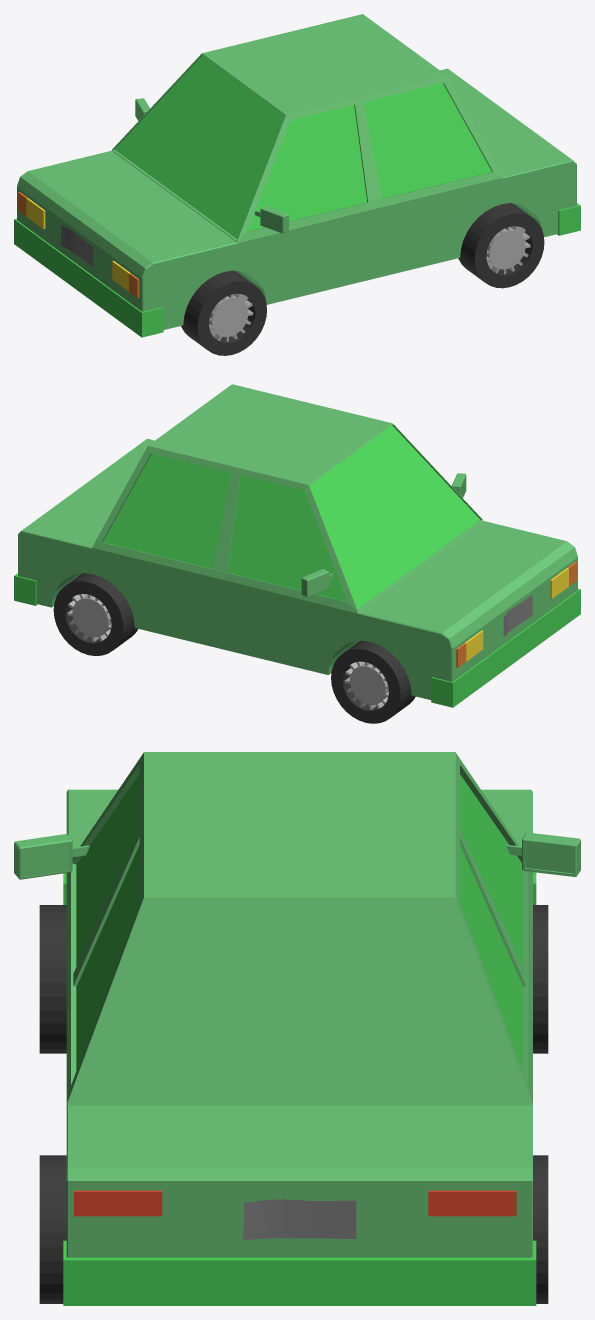
Rendered from Car One Green.fbx.
The picture shows the model from 3 angles, top to bottom: view 1: azimuth 30°, elevation 25°; view 2: azimuth 150°, elevation 25°; view 3: azimuth 270°, elevation 25°; orthographic projection. The views are drawn at different scales.
Visible parts, largest first — view 1: Car Body.002, Bumper.003, Tire.011, Tire.010, Spoke.011, Spoke.010, License Plate Front.004, Mirror Left.005, Back Bumper.002, Front Light.004, Light Front.004; view 2: Car Body.002, Bumper.003, Tire.009, Tire.008, Spoke.008, Spoke.009, Mirror Right.005, License Plate Front.004, Back Bumper.002, Front Light.004, Light Front.004; view 3: Car Body.002, Back Bumper.002, Plane.003, Tire.010, Tire.011, Mirror Left.005, Mirror Right.005, Back Light.007, Back Light.008, Tire.008, Tire.009.
Part boxes in pixels (x1,y1,x2,y2): Car Body.002: (17, 14, 576, 329); Bumper.003: (14, 218, 163, 337); Tire.011: (458, 203, 544, 288); Tire.010: (181, 270, 266, 355); Spoke.011: (486, 226, 530, 274); Spoke.010: (209, 293, 253, 341); License Plate Front.004: (60, 225, 92, 266); Mirror Left.005: (254, 205, 288, 233); Back Bumper.002: (557, 203, 580, 235); Front Light.004: (112, 261, 139, 298); Light Front.004: (18, 192, 45, 229); Car Body.002: (18, 384, 577, 699); Bumper.003: (431, 589, 580, 707); Tire.009: (53, 573, 137, 655); Tire.008: (331, 640, 415, 723); Spoke.008: (344, 661, 388, 709); Spoke.009: (67, 594, 111, 642); Mirror Right.005: (301, 569, 333, 597); License Plate Front.004: (503, 595, 532, 637); Back Bumper.002: (14, 573, 37, 605); Front Light.004: (550, 561, 577, 598); Light Front.004: (456, 630, 483, 667); Car Body.002: (66, 752, 532, 1257); Back Bumper.002: (63, 1240, 536, 1305); Plane.003: (243, 1199, 356, 1240); Tire.010: (39, 905, 66, 1053); Tire.011: (39, 1155, 66, 1303); Mirror Left.005: (14, 834, 89, 879); Mirror Right.005: (506, 832, 580, 876); Back Light.007: (428, 1190, 516, 1216); Back Light.008: (74, 1190, 162, 1216); Tire.008: (533, 905, 548, 1053); Tire.009: (533, 1155, 548, 1303).
Bounding box in the file's own units: 357 × 154 × 215.
